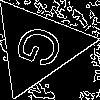G: (12, 21, 74, 76)
